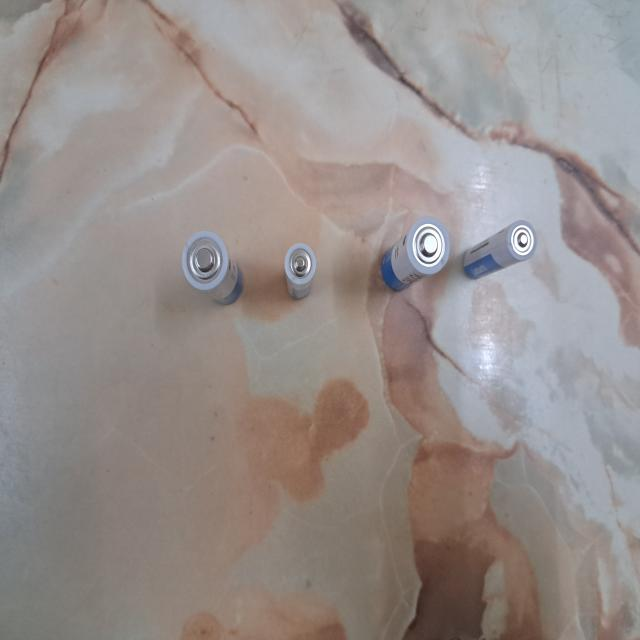battery: (380, 216, 451, 294), (182, 231, 245, 307), (463, 220, 538, 281), (284, 240, 317, 300)
